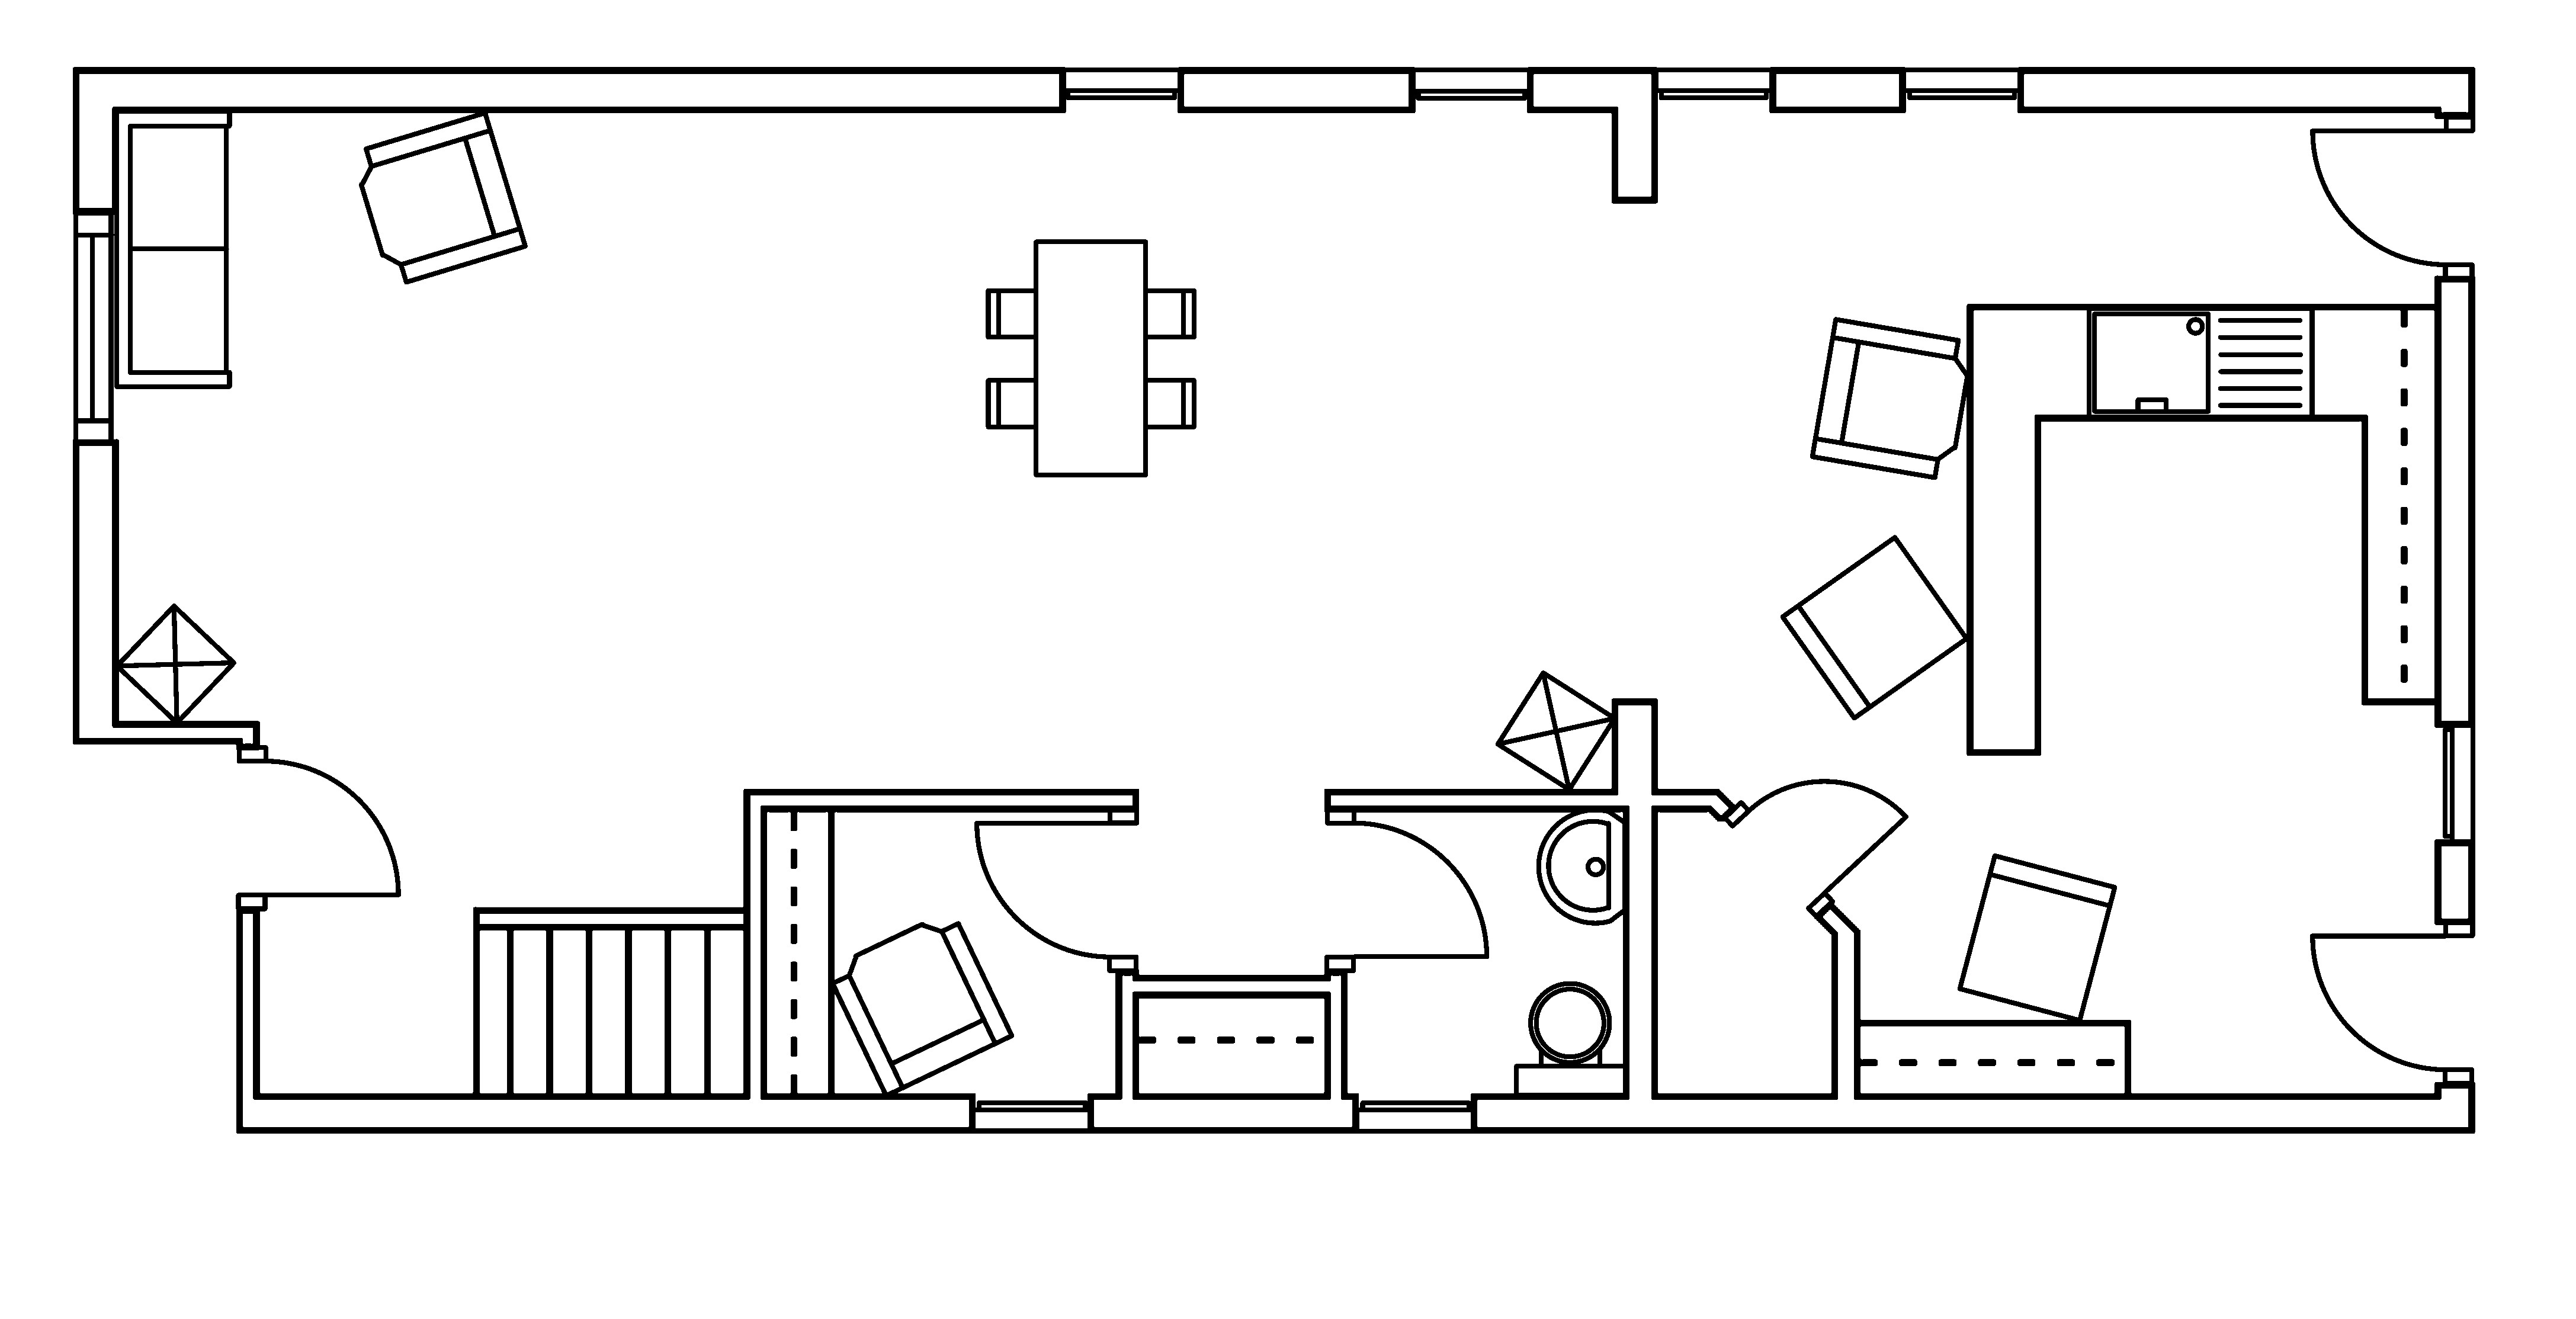armchair: (829, 920, 1014, 1099), (358, 109, 528, 284), (1808, 316, 1971, 479)
coffee_table: (113, 602, 237, 725), (1493, 670, 1618, 792)
dining_table: (984, 239, 1197, 478)
large_sink: (1513, 981, 1628, 1097)
large_sofa: (113, 108, 232, 389)
sink: (2085, 305, 2314, 421)
small_sink: (1535, 808, 1628, 925)
small_sofa: (1779, 533, 1969, 720), (1956, 853, 2117, 1023)
